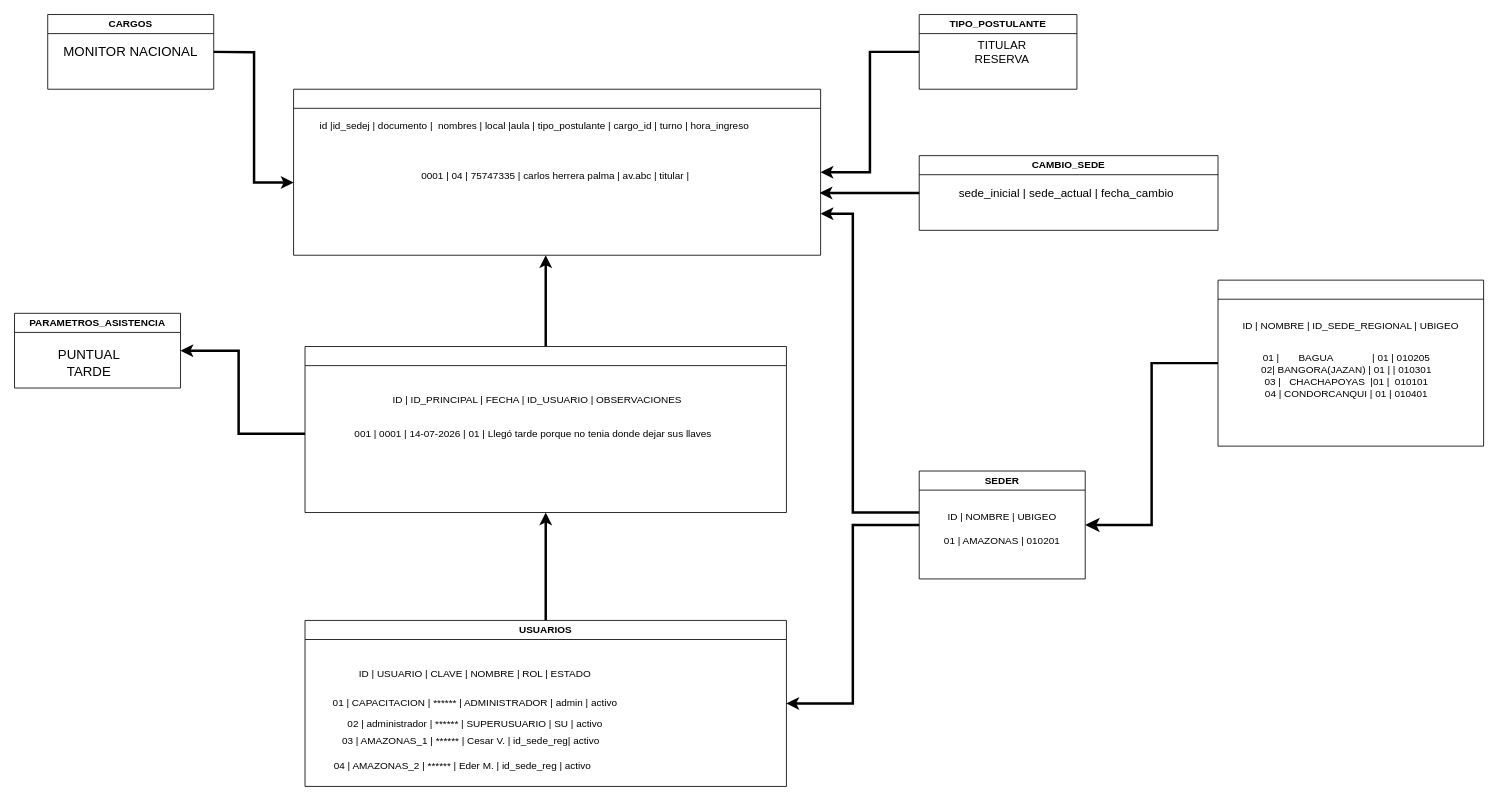
The diagram is 1498 pixels wide and 801 high, and some of its shapes have lost their labels. Here are the shapes that lost their labels. From the top down, the box of each, then its label:
(293, 88, 821, 255): PRINCIPAL
(1217, 279, 1484, 446): SEDEJ
(304, 346, 786, 513): ASISTENCIA
